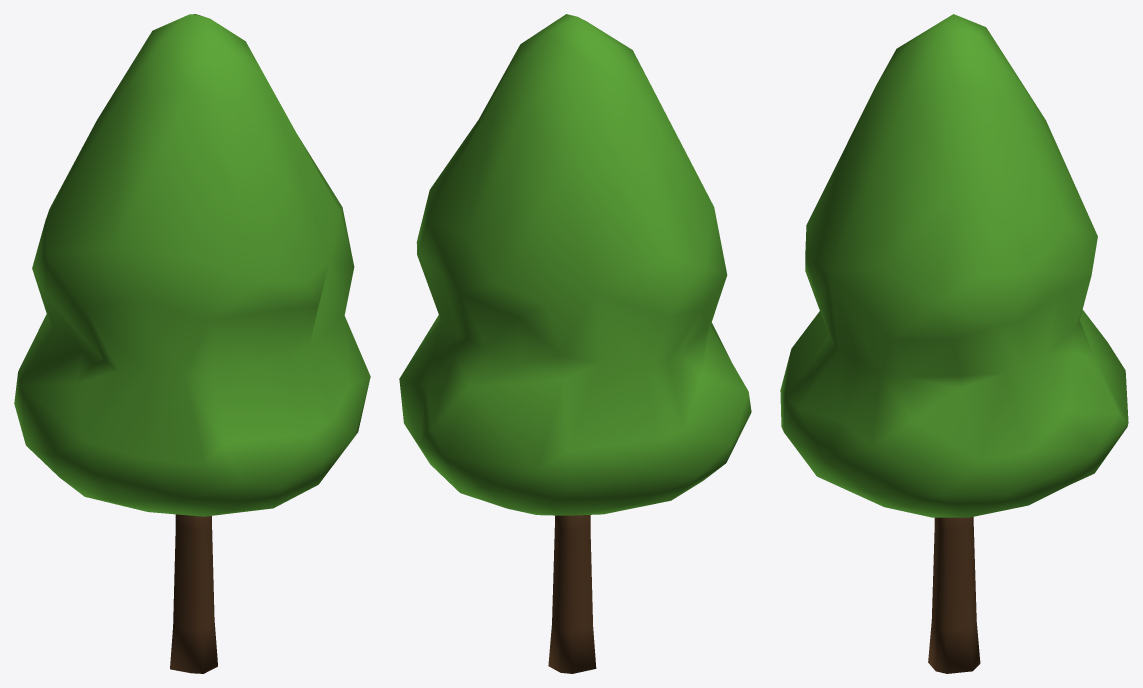
Rendered from Tree 2.fbx.
3 renders of one model, left to right at view 1: azimuth 30°, elevation 25°; view 2: azimuth 150°, elevation 25°; view 3: azimuth 270°, elevation 25°, orthographic.
Parts seen in each view (by area): view 1: Icosphere, Cylinder.007; view 2: Icosphere, Cylinder.007; view 3: Icosphere, Cylinder.007.
Part boxes in pixels (box(x1,y1,x2,y2)): Icosphere: box(14, 14, 370, 516); Cylinder.007: box(170, 514, 217, 673); Icosphere: box(399, 14, 751, 515); Cylinder.007: box(548, 515, 596, 673); Icosphere: box(780, 14, 1128, 517); Cylinder.007: box(928, 517, 980, 673).
Size of the model in its own units: 771 by 1588 by 774.
